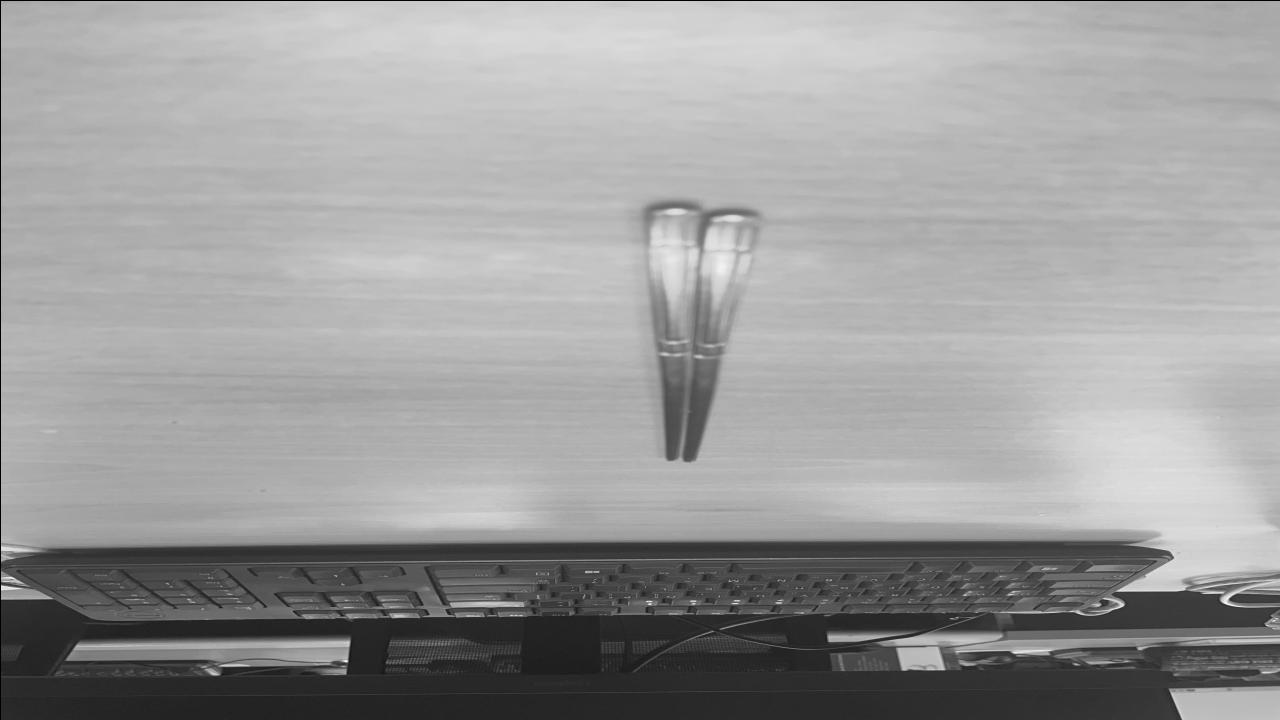chopstick: (647, 206, 757, 463)
